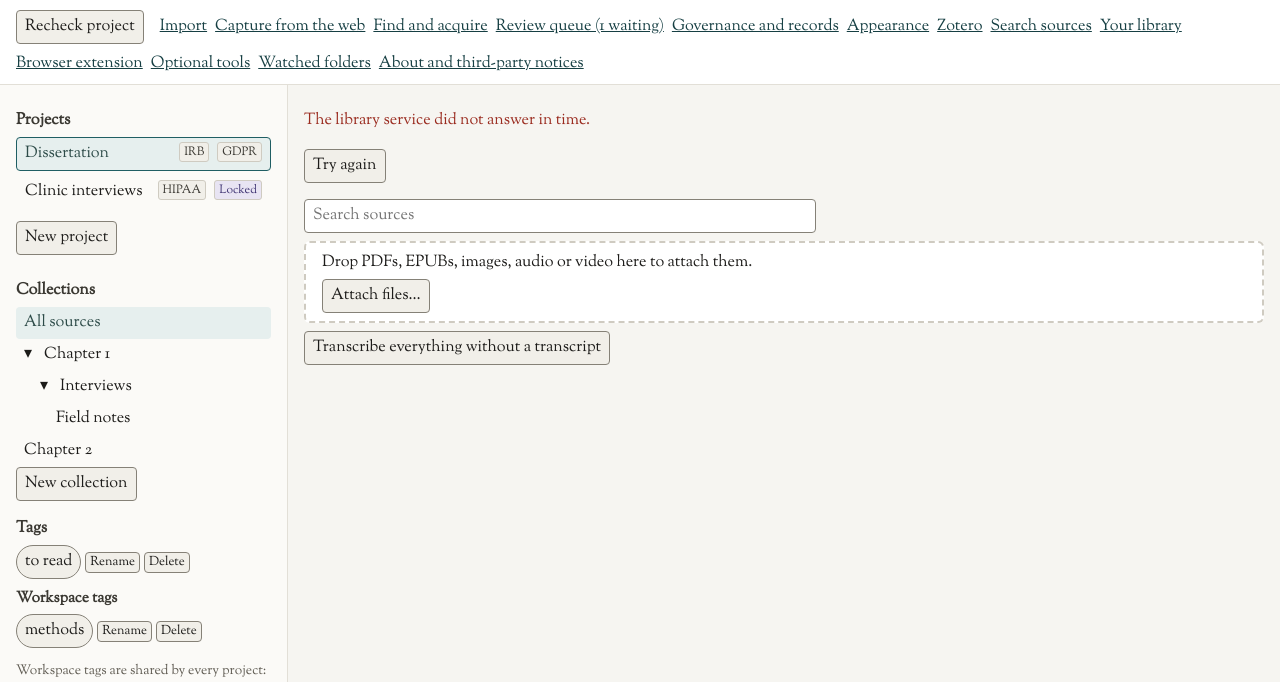
Test: Library: an answer clears a give-up; a project switch clears the alerts of the project left (FR-756 I2, R602) › a sources read given up, then answered with the service's own failure after “Try again”: only the service's sentence
The image size is (1280, 682).
Click the button "Try again".
click(345, 166)  # box [304, 149, 386, 183]
(page scrolled)
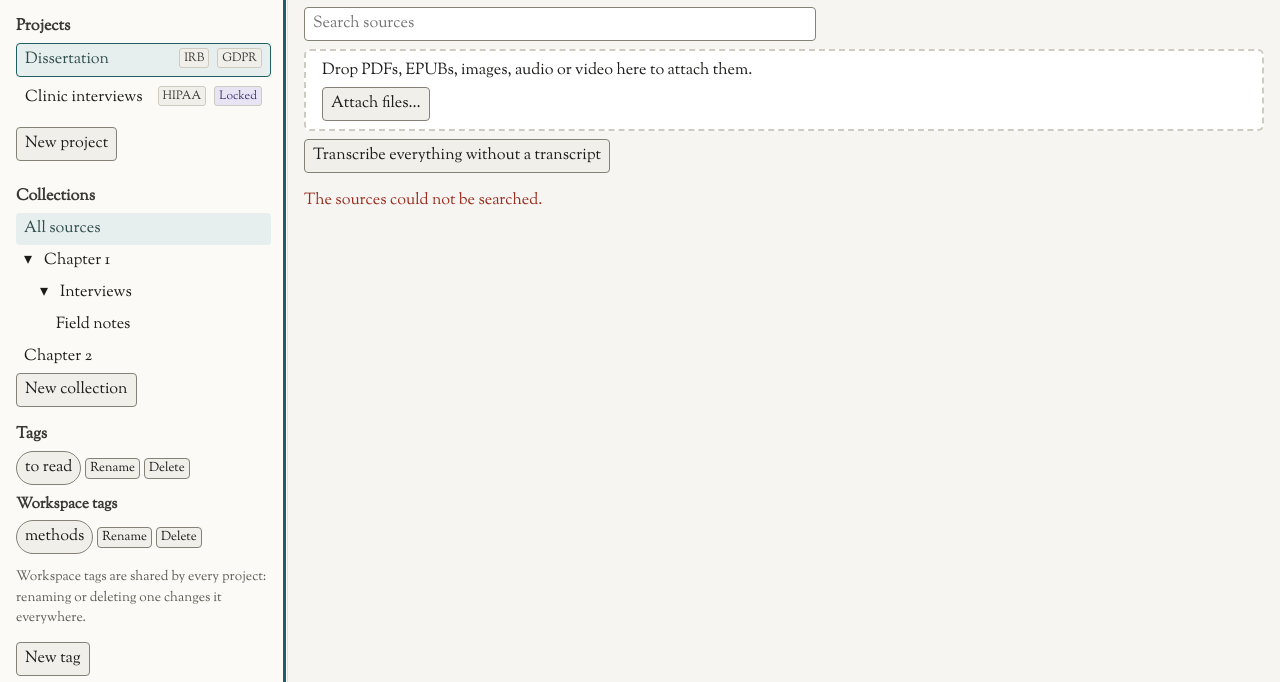
Expected: the text "The sources could not be searched." is shown, [304, 189, 542, 212]
Expected: the button "Try again" is gone
